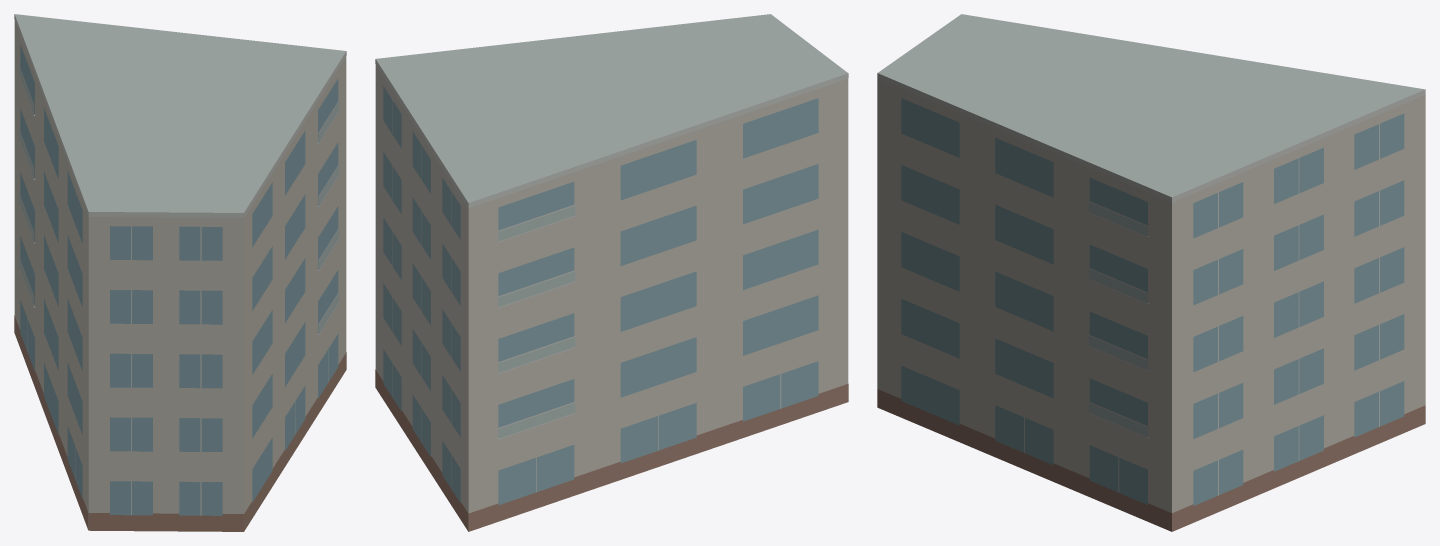
Rendered from survey-upis-32931536.glb.
The picture shows the model from 3 angles, left to right: view 1: azimuth 30°, elevation 25°; view 2: azimuth 150°, elevation 25°; view 3: azimuth 270°, elevation 25°; orthographic projection. The views are drawn at different scales.
Visible parts, largest first — view 1: survey-upis-32931536.tmp; view 2: survey-upis-32931536.tmp; view 3: survey-upis-32931536.tmp.
Part boxes in pixels (x1=…): survey-upis-32931536.tmp: x1=14, y1=14, x2=346, y2=531; survey-upis-32931536.tmp: x1=375, y1=14, x2=848, y2=531; survey-upis-32931536.tmp: x1=877, y1=14, x2=1425, y2=531.
Size of the model in its own units: 17.94 by 15.25 by 22.65.
